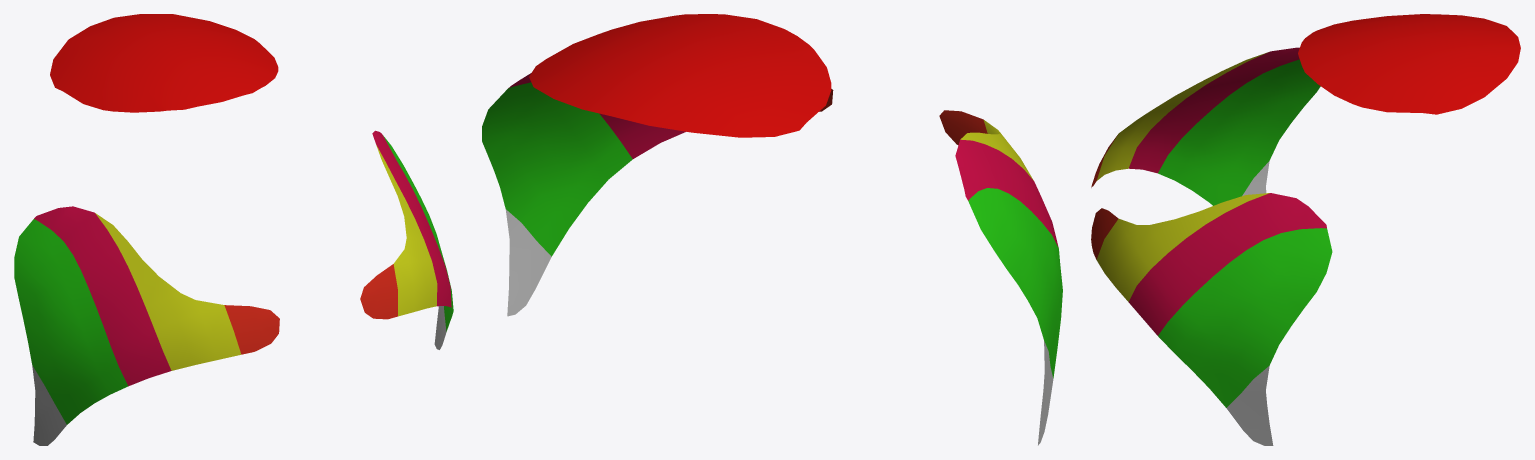
Rendered from Lysina_divided.dae.
3 renders of one model, left to right at view 1: azimuth 30°, elevation 25°; view 2: azimuth 150°, elevation 25°; view 3: azimuth 270°, elevation 25°, orthographic. The views are drawn at different scales.
Parts seen in each view (by area): view 1: Top, Right_2, Right_3, Right_4, Left_4, Left_3, Right_forehead, Left_forehead, Right_1, Left_2; view 2: Top, Left_2, Right_2, Right_3, Left_1, Left_3, Right_forehead, Right_4, Right_1; view 3: Top, Left_2, Right_2, Left_3, Left_4, Right_3, Right_4, Left_1, Left_forehead, Right_1.
Boxes of the visible parts, <box> form: Top: <box>50,14,278,112</box>; Right_2: <box>14,219,128,424</box>; Right_3: <box>34,206,171,386</box>; Right_4: <box>95,213,241,370</box>; Left_4: <box>376,145,437,316</box>; Left_3: <box>372,130,451,307</box>; Right_forehead: <box>224,305,279,354</box>; Left_forehead: <box>360,264,397,319</box>; Right_1: <box>32,365,66,445</box>; Left_2: <box>383,135,453,331</box>; Top: <box>529,14,831,137</box>; Left_2: <box>482,82,632,256</box>; Right_2: <box>968,188,1062,378</box>; Right_3: <box>955,139,1058,247</box>; Left_1: <box>505,209,551,316</box>; Left_3: <box>508,73,685,158</box>; Right_forehead: <box>939,110,987,145</box>; Right_4: <box>960,120,1033,180</box>; Right_1: <box>1038,341,1053,445</box>; Top: <box>1298,14,1520,114</box>; Left_2: <box>1158,228,1332,407</box>; Right_2: <box>1158,59,1320,205</box>; Left_3: <box>1128,193,1326,335</box>; Left_4: <box>1096,193,1269,301</box>; Right_3: <box>1128,47,1299,173</box>; Right_4: <box>1096,52,1267,180</box>; Left_1: <box>1226,366,1273,445</box>; Left_forehead: <box>1091,208,1118,259</box>; Right_1: <box>1242,161,1269,195</box>.
Bounding box in the file's own units: 12.92 × 9.04 × 11.46.
